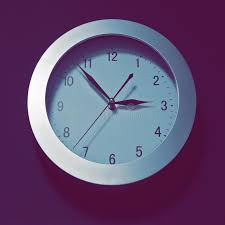alarm_clock: (24, 18, 196, 184), (37, 18, 196, 184)
